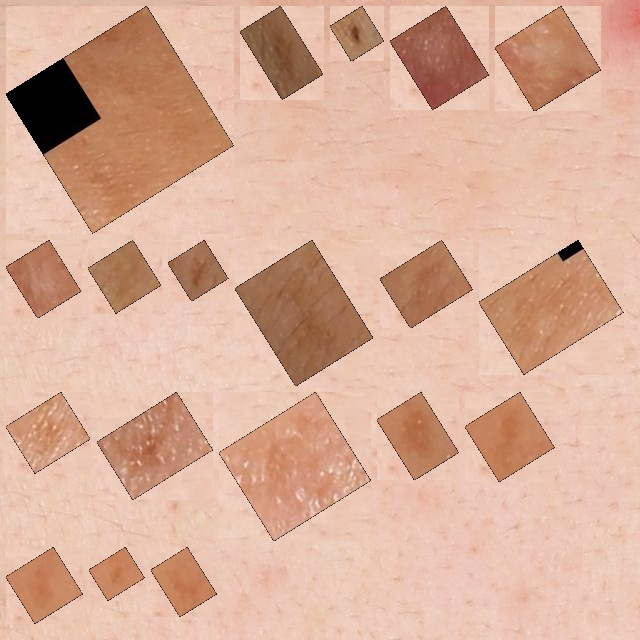hypertrophic_scar: (506, 17, 590, 100), (401, 17, 478, 99), (17, 251, 70, 307)
melasma: (17, 17, 223, 222), (230, 403, 360, 530), (246, 251, 362, 375), (490, 251, 612, 363), (108, 403, 202, 488), (391, 251, 462, 317), (476, 403, 544, 471), (251, 17, 312, 88), (388, 403, 448, 469), (17, 403, 79, 462), (17, 558, 72, 612), (99, 251, 150, 302), (162, 558, 206, 605), (179, 251, 217, 290), (100, 558, 134, 589)
nevus: (341, 17, 373, 50)
